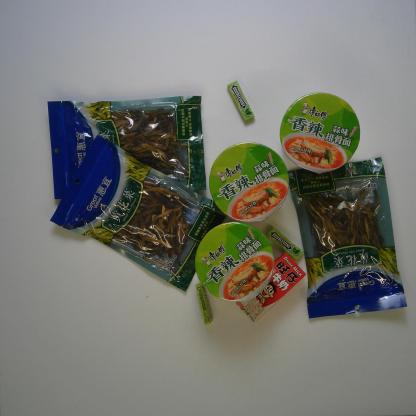Dried Food: (45, 135, 230, 294), (283, 156, 409, 321), (42, 92, 210, 202)
Gum: (227, 78, 255, 124), (266, 226, 303, 260), (193, 280, 215, 326)
Instant Noodles: (206, 141, 292, 225), (278, 91, 362, 174), (196, 219, 277, 305)
Milk: (234, 250, 308, 324)
